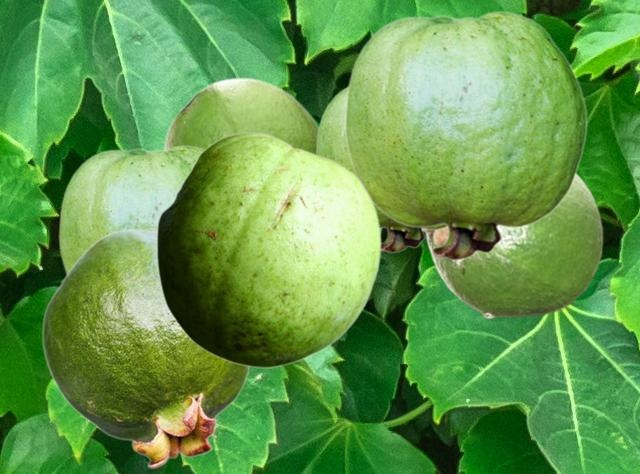guava: (344, 11, 587, 260), (156, 132, 380, 367), (41, 229, 250, 468), (424, 173, 604, 318), (315, 86, 445, 252), (58, 145, 203, 274), (163, 76, 318, 152)
